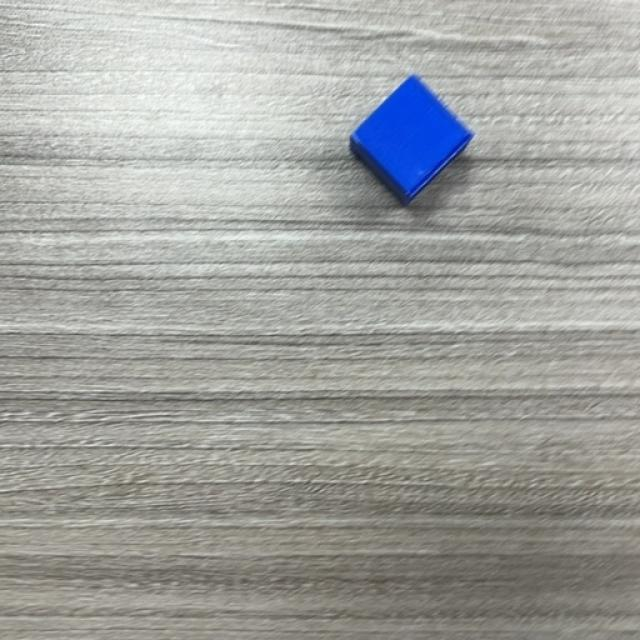Azul: (348, 76, 476, 208)
